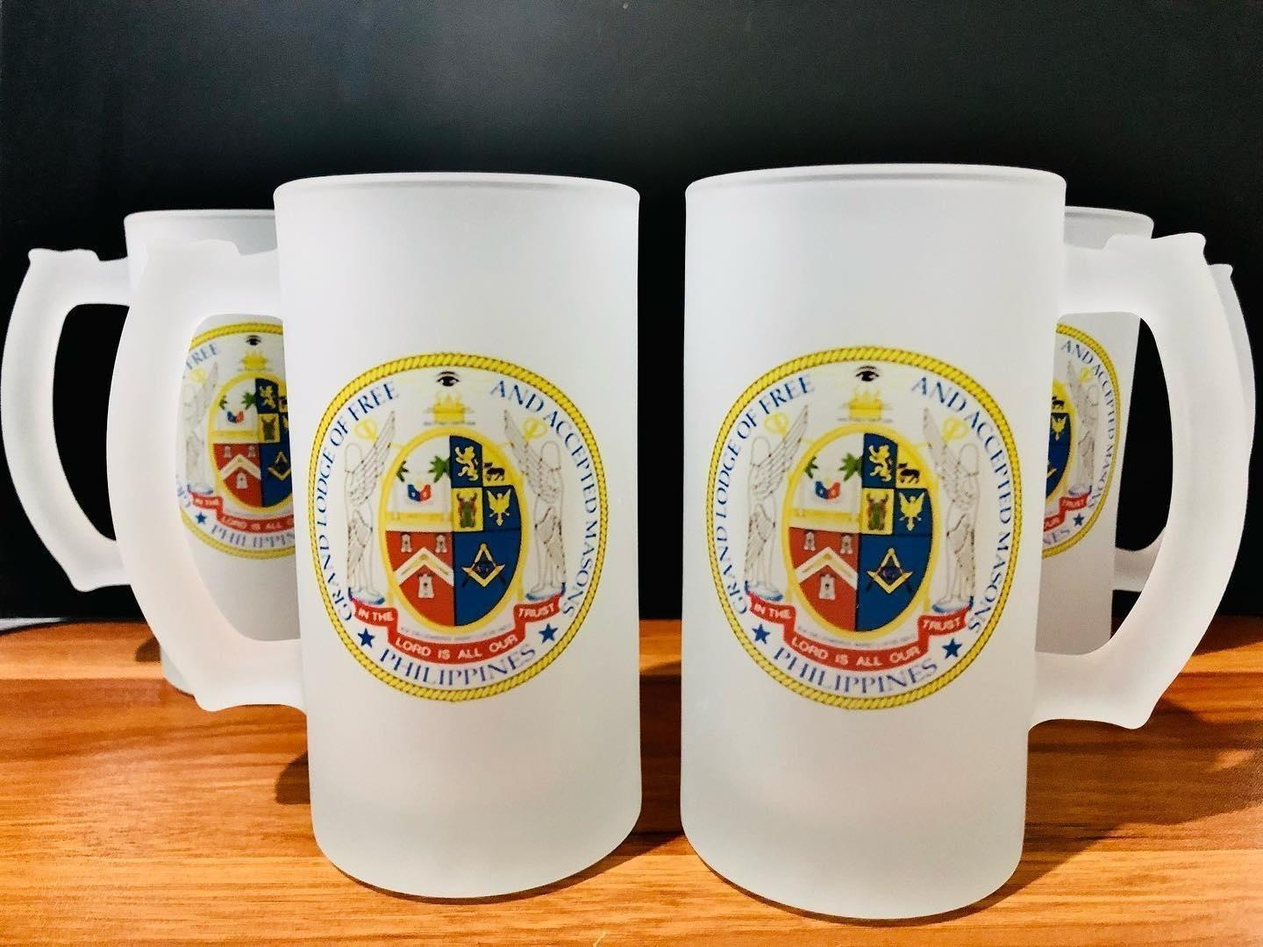glass-mug: (676, 154, 1259, 930), (97, 167, 647, 902), (0, 198, 298, 716)
